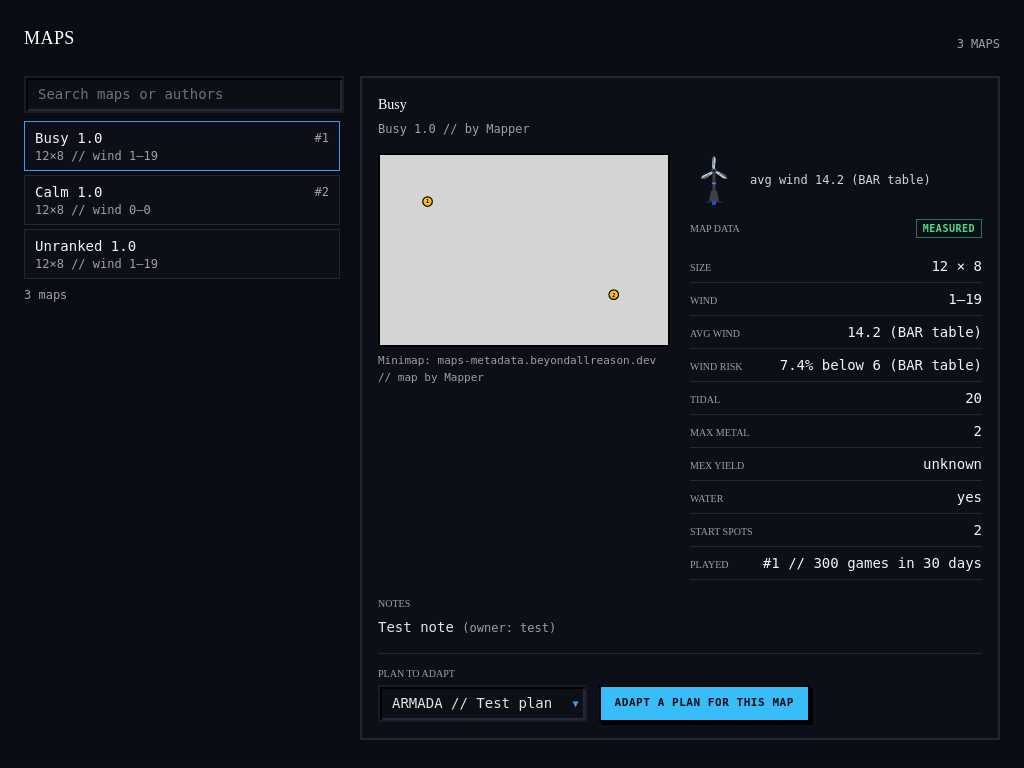
it: MapsView › opens the adapter with the chosen plan for this map
Click the button "ADAPT A PLAN FOR THIS MAP". click: (704, 704)
box: [599,685,810,722]
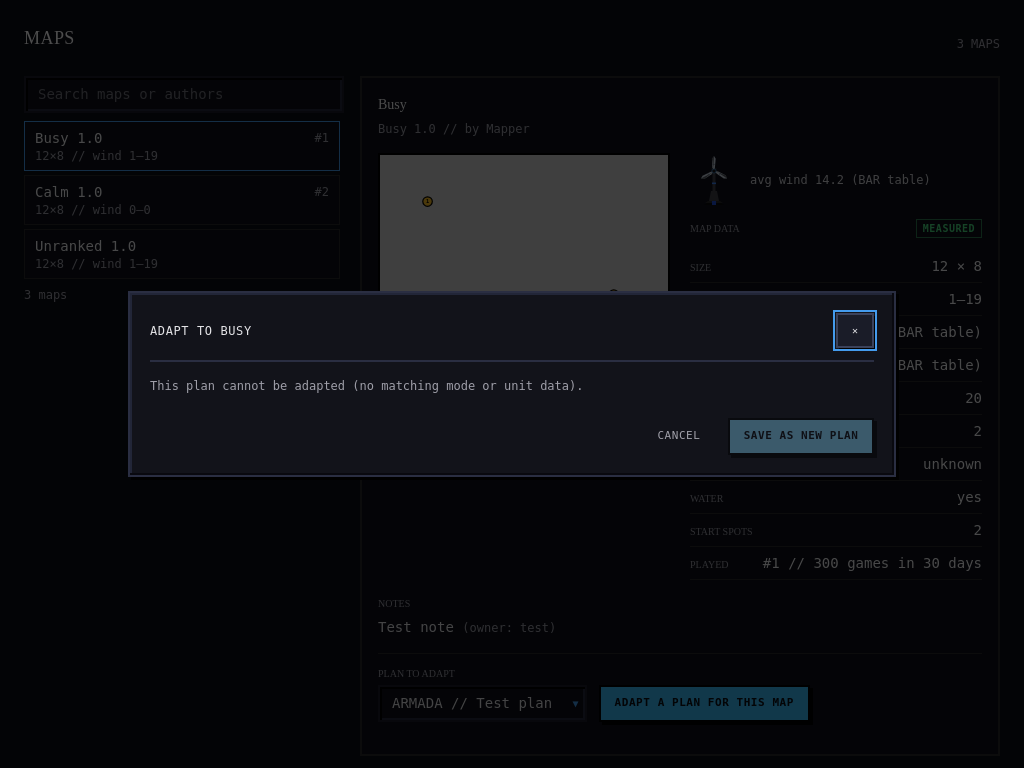
Check: the text "ADAPT TO BUSY" is shown, box [150,322,252,340]
